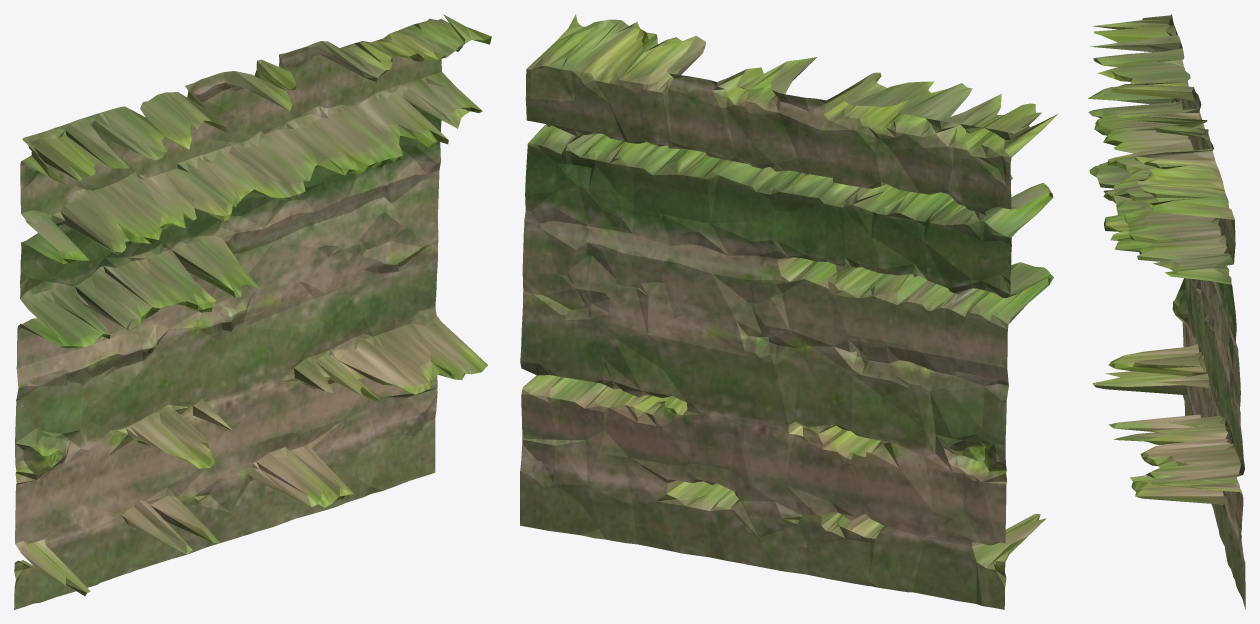
File: map_140_40.obj
The picture shows the model from 3 angles, left to right: view 1: azimuth 30°, elevation 25°; view 2: azimuth 150°, elevation 25°; view 3: azimuth 270°, elevation 25°; orthographic projection. The views are drawn at different scales.
Parts seen in each view (by area): view 1: grp1; view 2: grp1; view 3: grp1.
Part boxes in pixels (bbox=[...]): grp1: bbox=[14, 14, 491, 609]; grp1: bbox=[520, 14, 1057, 609]; grp1: bbox=[1088, 14, 1245, 609].
Size of the model in its own units: 10 by 10 by 3.53.
1 material, 1 textured.
